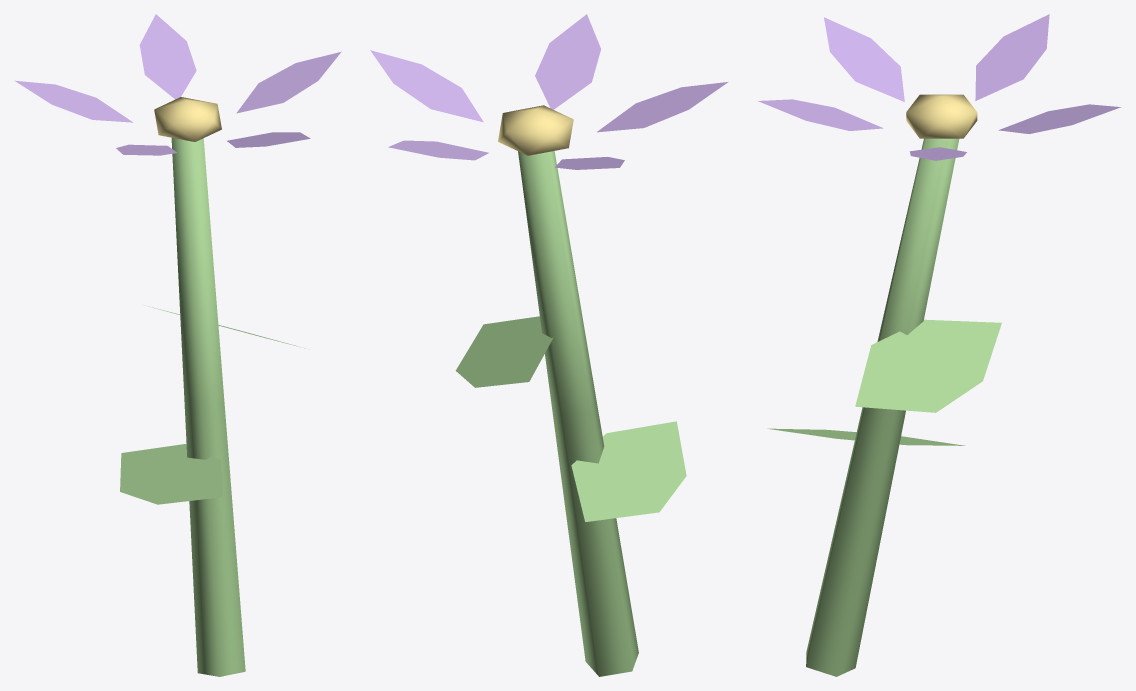
Rendered from flower_purple.glb.
3 renders of one model, left to right at view 1: azimuth 30°, elevation 25°; view 2: azimuth 150°, elevation 25°; view 3: azimuth 270°, elevation 25°, orthographic. The views are drawn at different scales.
Parts seen in each view (by area): view 1: flower_purple; view 2: flower_purple; view 3: flower_purple.
Boxes of the visible parts, left/top/right/bottom form: flower_purple: left=14, top=14, right=341, bottom=676; flower_purple: left=370, top=14, right=727, bottom=676; flower_purple: left=758, top=14, right=1121, bottom=676.
Bounding box in the file's own units: 0.1501 × 0.2843 × 0.1572.
